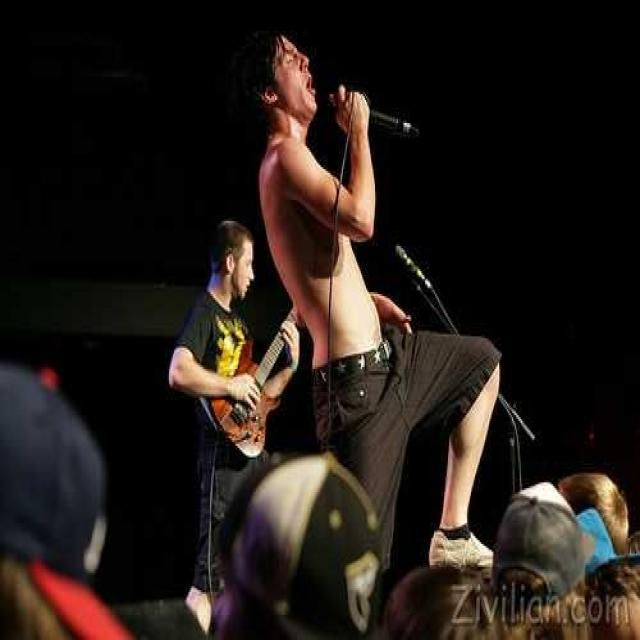microphone: (330, 86, 417, 138), (396, 244, 432, 290)
